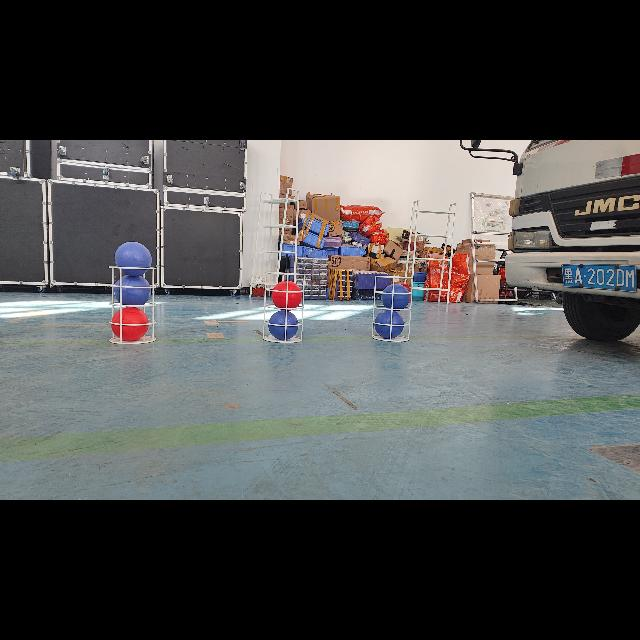B: (116, 242, 152, 276), (115, 274, 151, 308), (268, 310, 298, 340), (374, 310, 406, 338), (382, 284, 411, 310)
R: (112, 308, 150, 340), (272, 280, 302, 310)
S: (105, 265, 163, 345), (262, 270, 308, 344), (368, 274, 416, 344)
